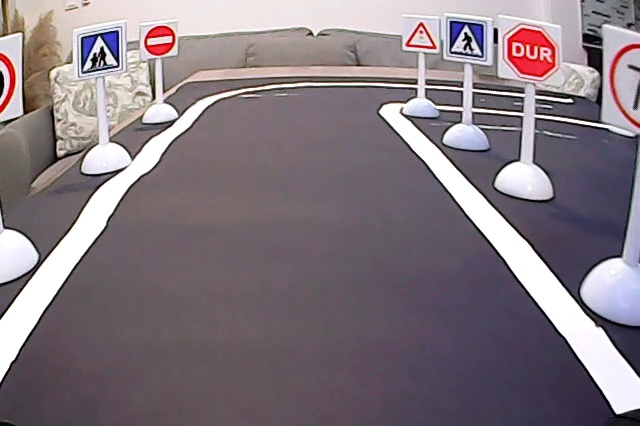do not enter: (142, 24, 179, 58)
pedestrian crossing: (446, 19, 489, 62)
red light: (404, 18, 439, 52)
school crossing: (78, 29, 123, 76)
stop sign: (499, 22, 563, 84)
